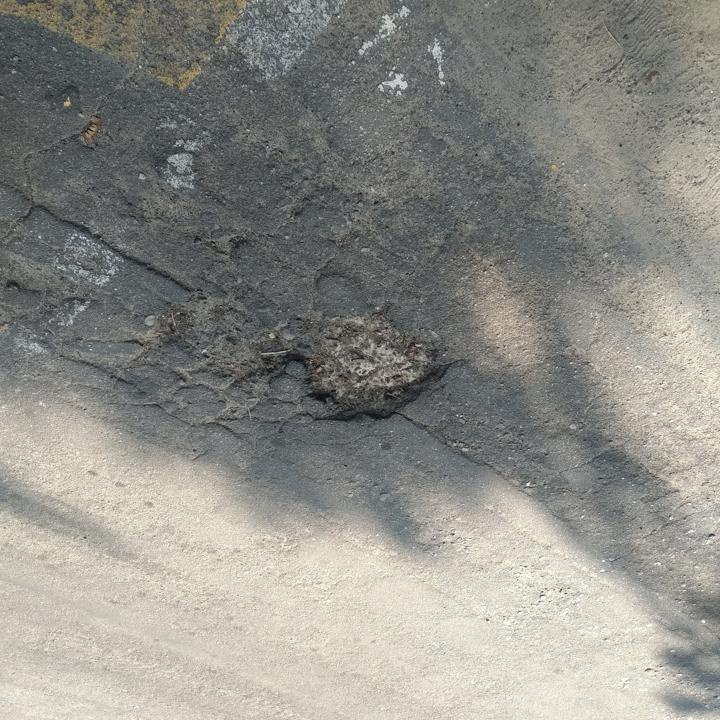pothole: (296, 310, 462, 428), (157, 298, 293, 384)
